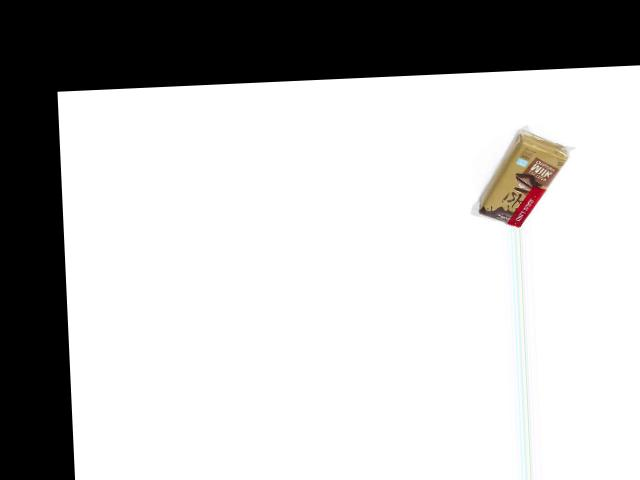chocolate: (473, 127, 583, 227)
